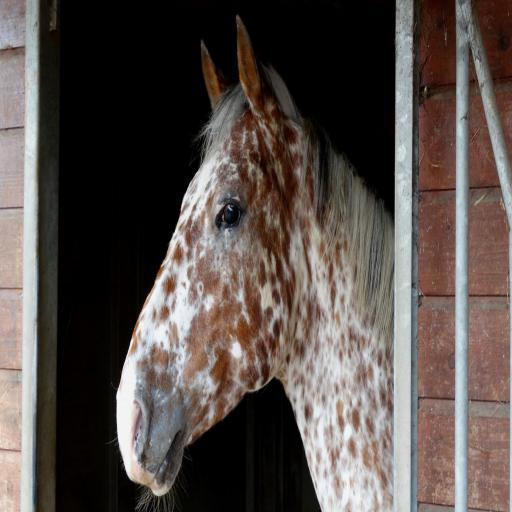horse: (116, 14, 398, 511)
